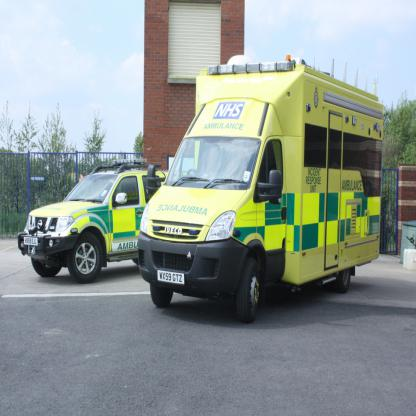Ambulance: (135, 53, 384, 321), (16, 162, 171, 282)
